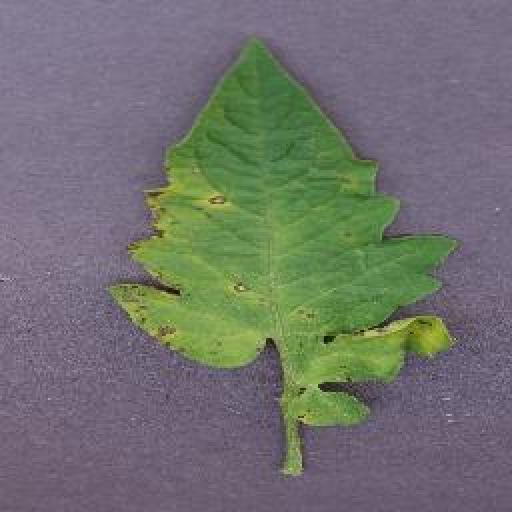Septoria: (103, 40, 460, 429)
